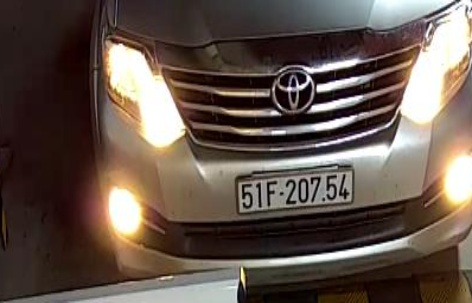plate: (232, 165, 360, 214)
